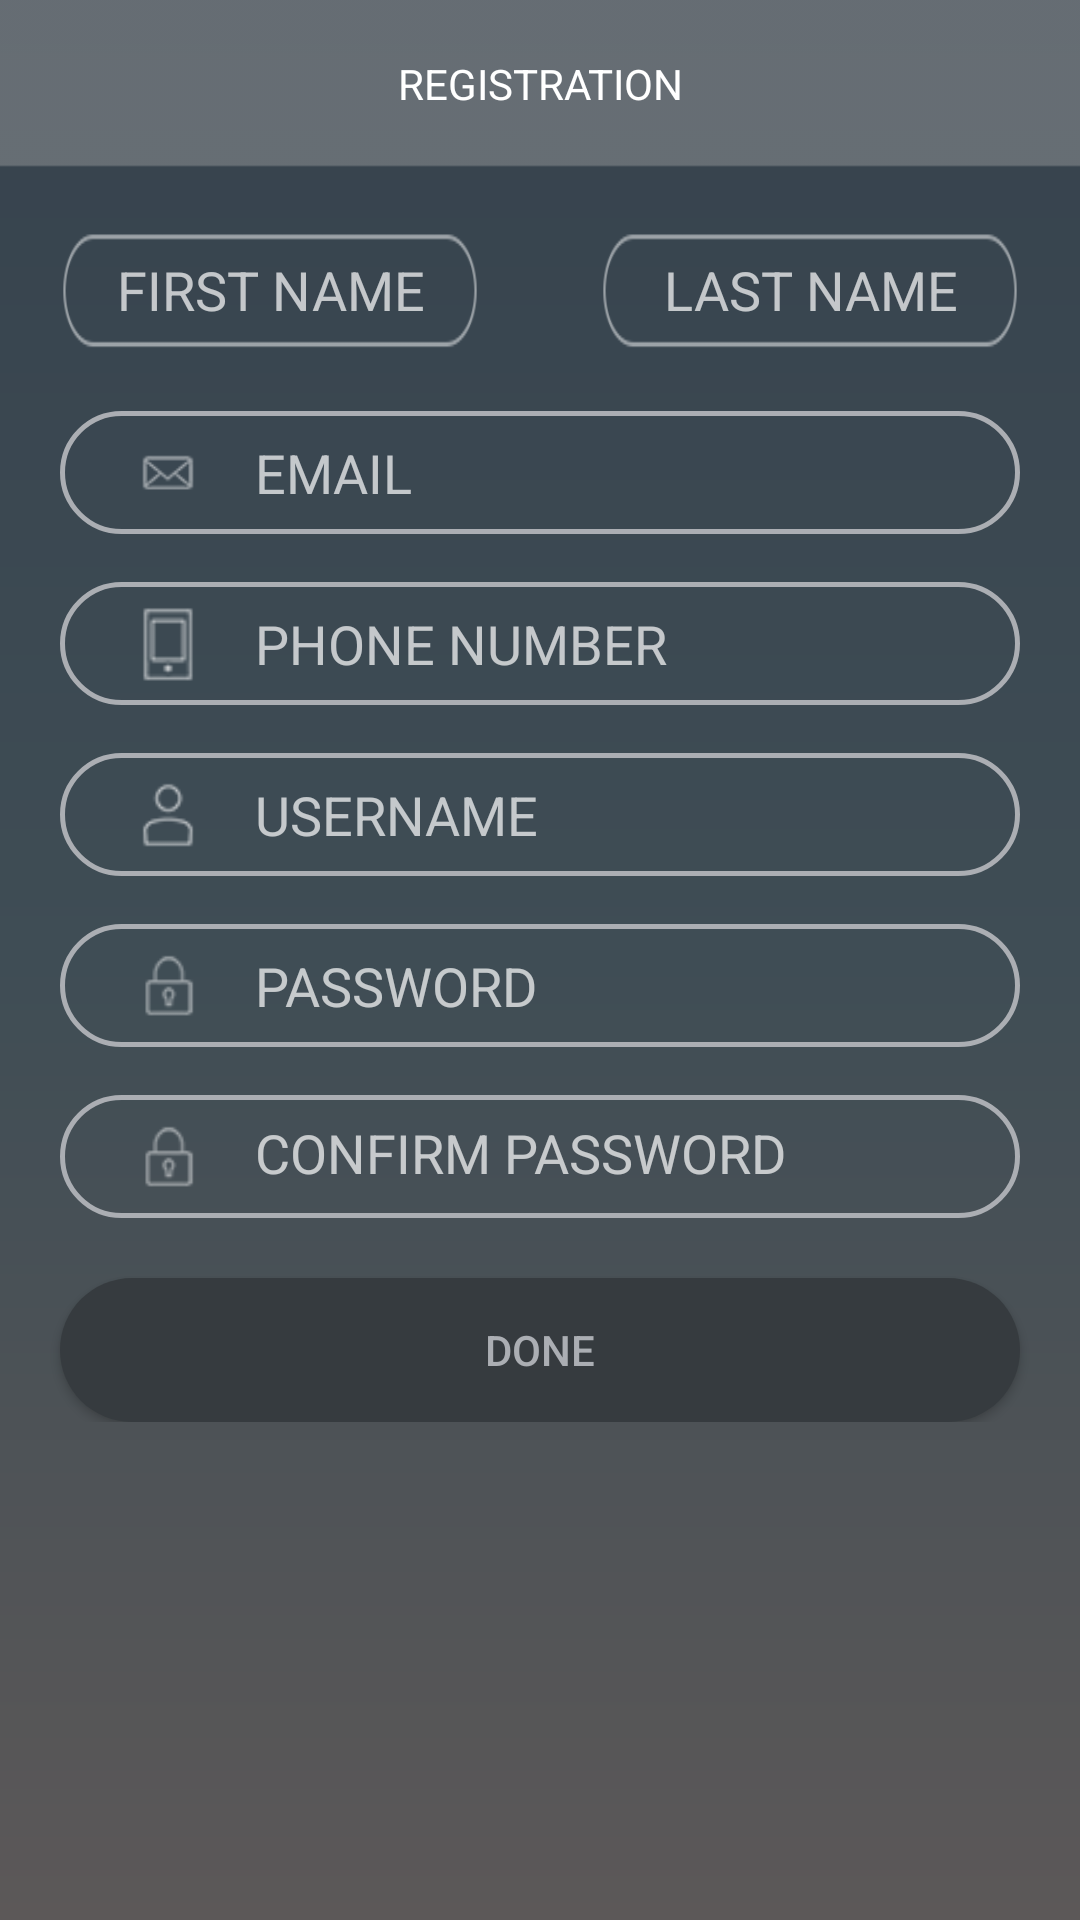

Icon click points for this 1080 x 1920 phone screenshot, format [x,y]:
mobile: [168,644]
